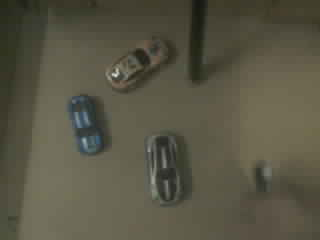Car: (106, 38, 167, 90), (147, 134, 181, 204), (69, 95, 102, 152)
